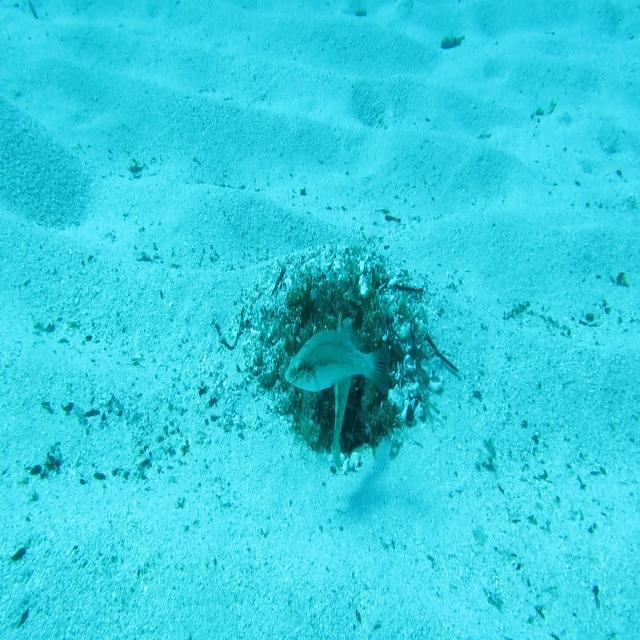FAN: (328, 309, 356, 476)
core_nest: (312, 294, 357, 326)
female: (282, 324, 393, 401)
nest: (234, 231, 448, 485)
vegetation: (440, 28, 464, 54)
